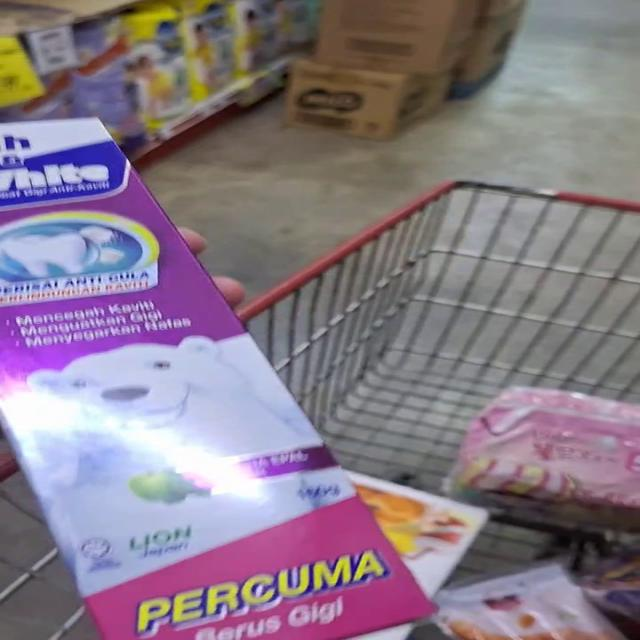Ubat Gigi: (0, 328, 434, 640), (0, 117, 276, 450)
